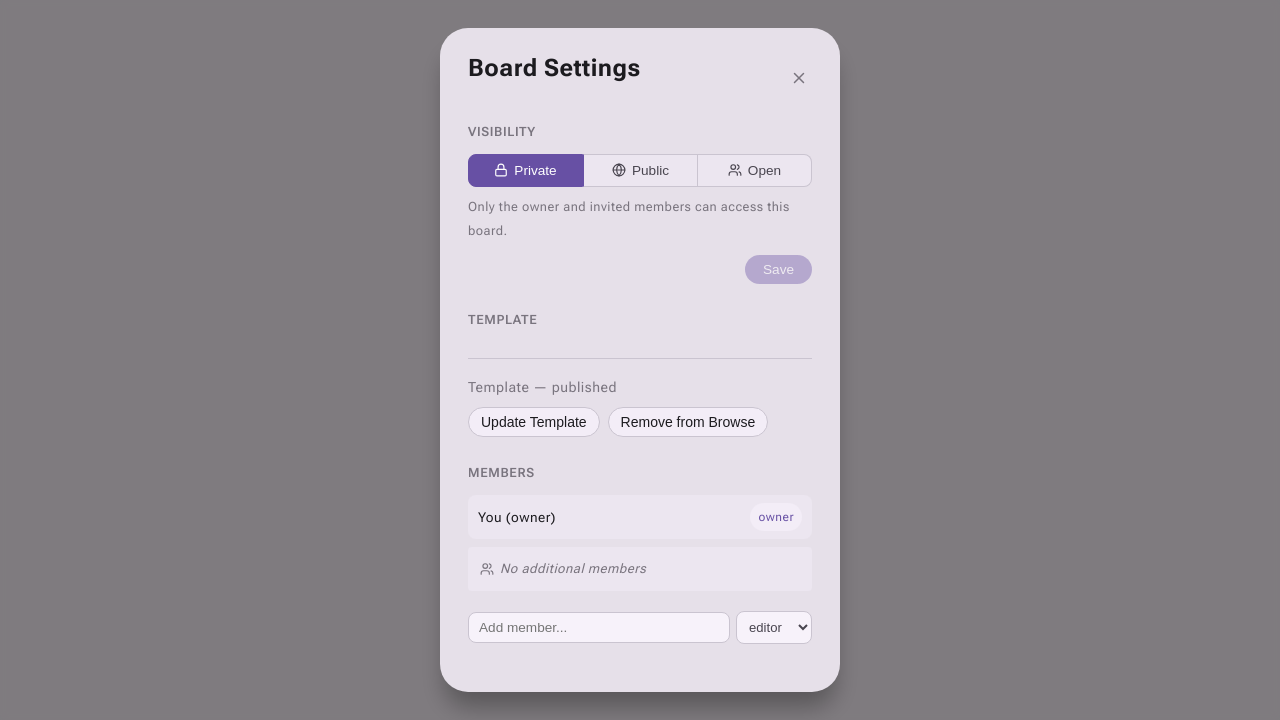
Test: BoardSettings — template toggle › shows confirmation dialog when "Update Template" is clicked (default behavior)
Click the button "Update Template".
click(534, 422)  # box [468, 407, 600, 437]
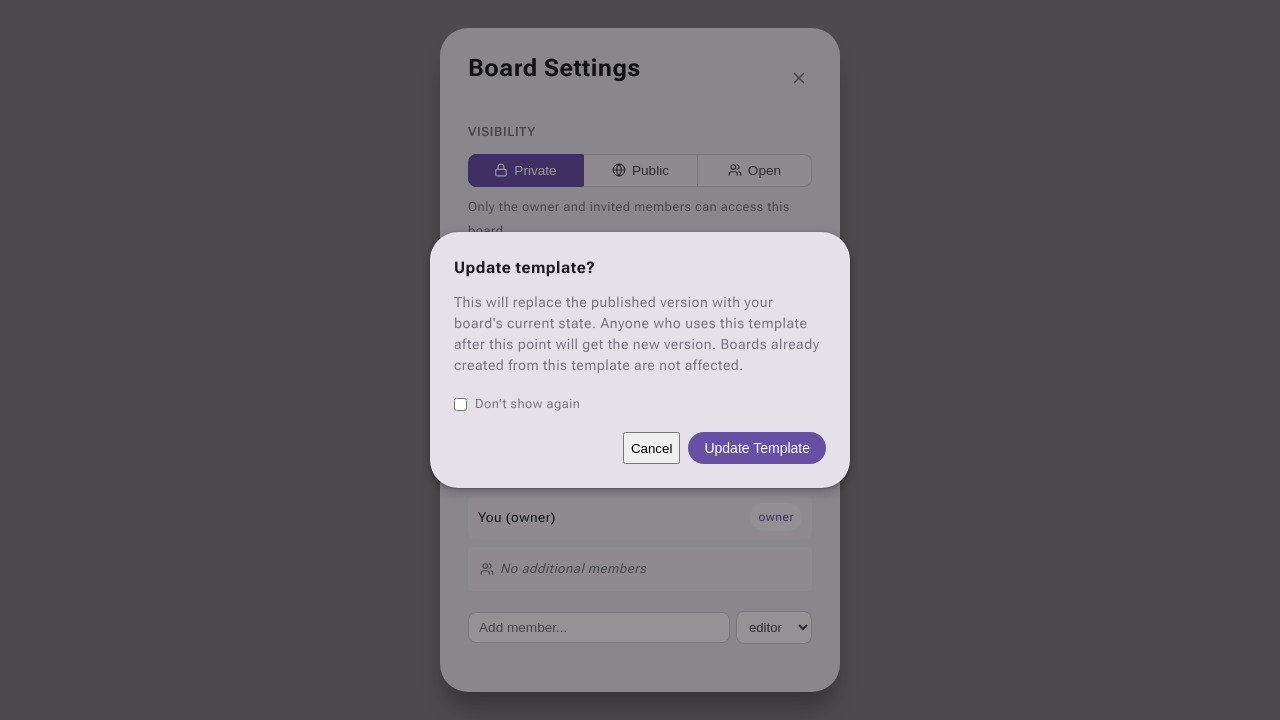
expect the heading "Update template?" is shown: met, box [454, 258, 595, 277]
